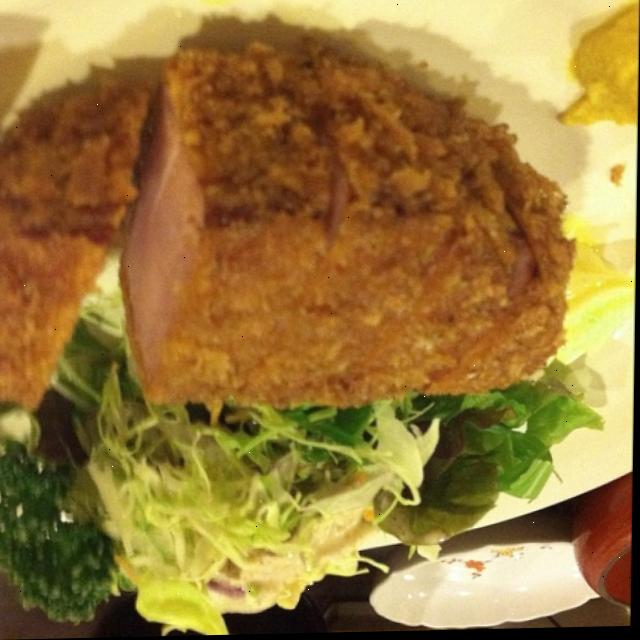炸货点心: (0, 20, 612, 462)
